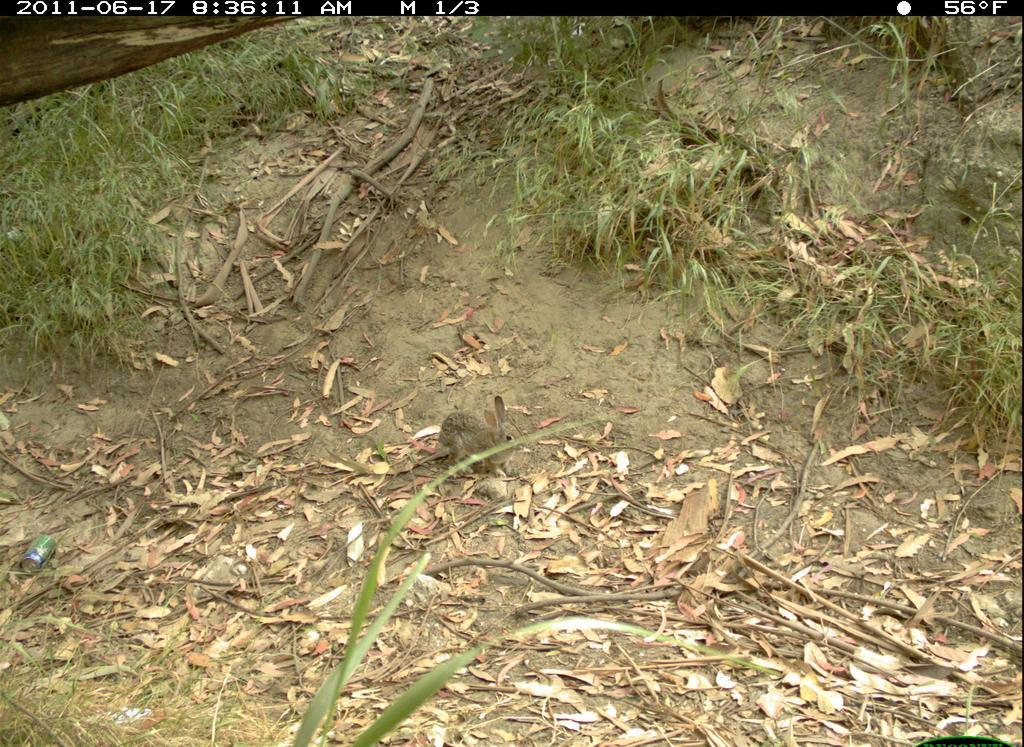rabbit: (436, 393, 529, 484)
